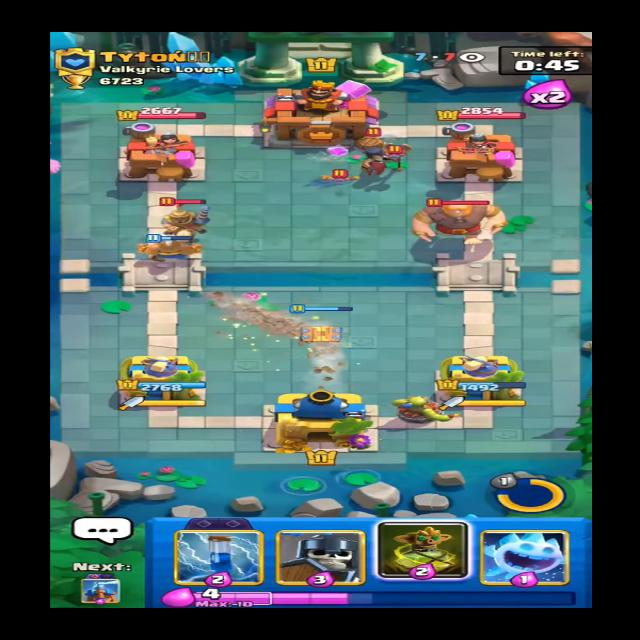bats: (317, 168, 361, 186)
giant: (406, 194, 509, 241)
night-witch: (353, 126, 399, 179)
prince: (155, 195, 207, 253)
